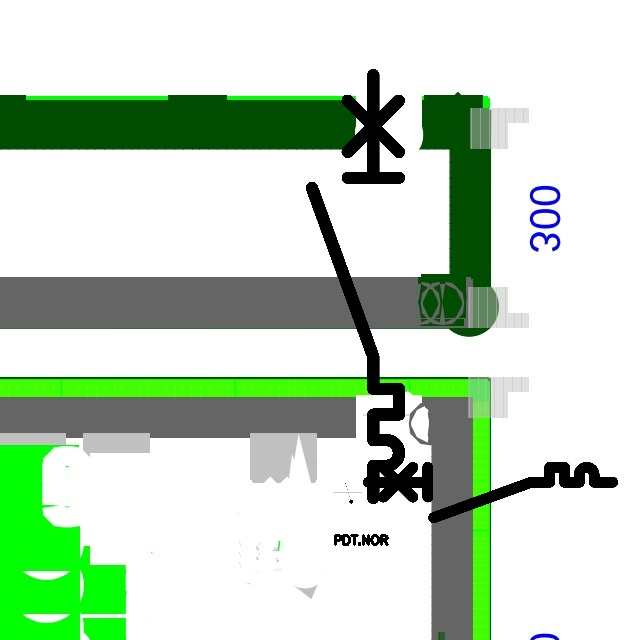interruptor_termomagnetico: (301, 64, 410, 509), (362, 461, 619, 524)
